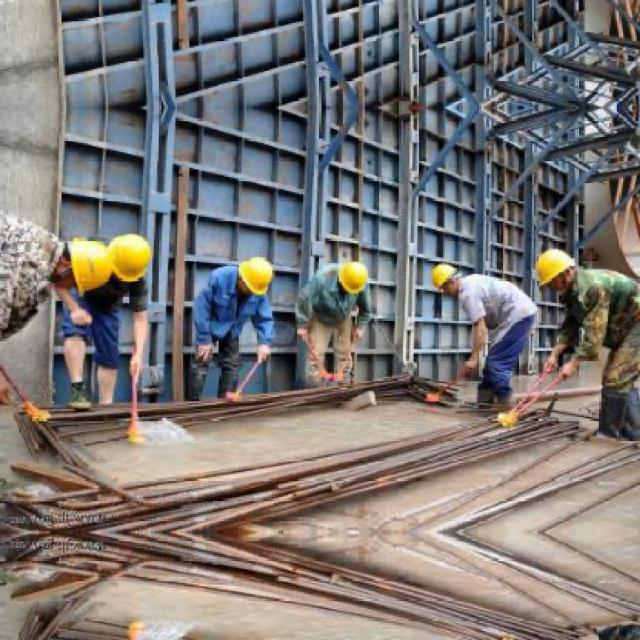con casco: (26, 228, 95, 302), (108, 216, 176, 279), (539, 231, 576, 315), (422, 239, 464, 313), (326, 245, 372, 305), (228, 247, 280, 296)
